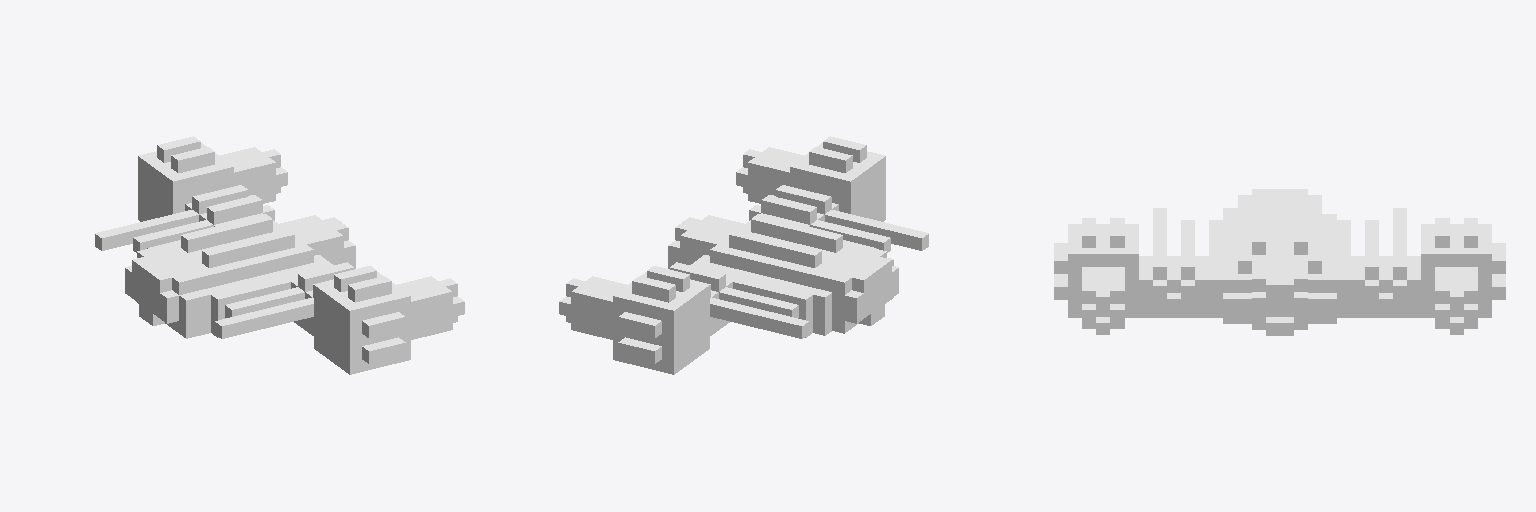
File: Enemy2.5.obj
The picture shows the model from 3 angles: view 1: azimuth 30°, elevation 25°; view 2: azimuth 150°, elevation 25°; view 3: azimuth 270°, elevation 25°; orthographic projection.
Size of the model in its own units: 18 by 6 by 32.